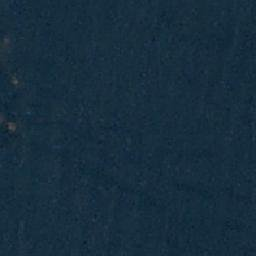debris: (1, 115, 14, 133), (10, 72, 19, 85)
